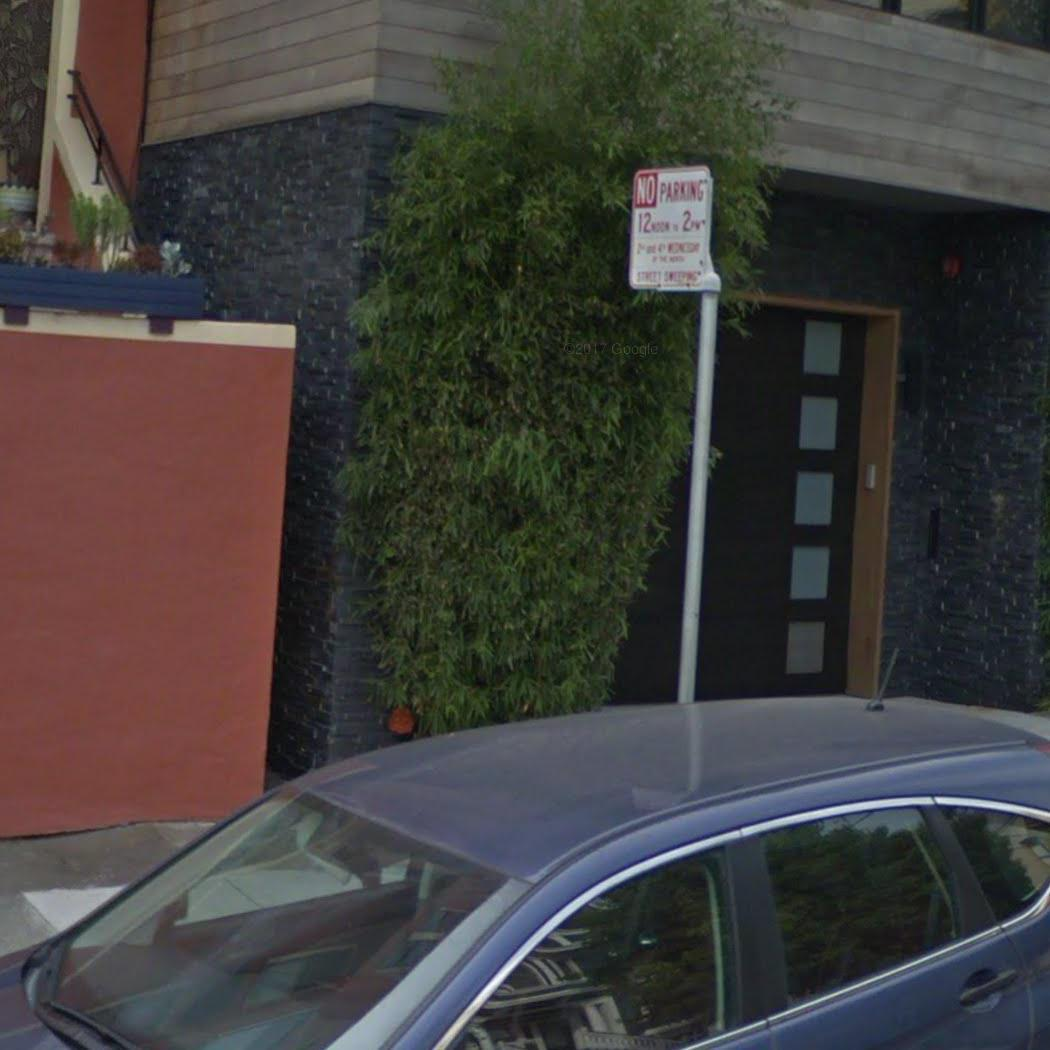No Parking: (625, 157, 720, 299)
